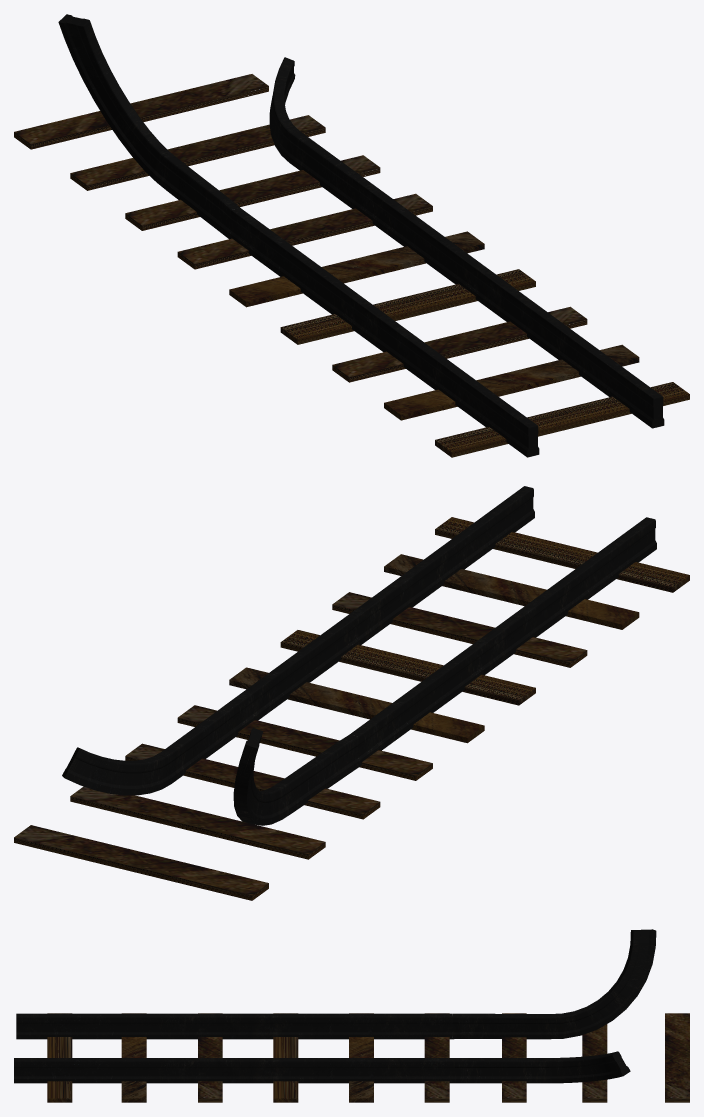
File: track broken.fbx
3 renders of one model, top to bottom at view 1: azimuth 30°, elevation 25°; view 2: azimuth 150°, elevation 25°; view 3: azimuth 270°, elevation 25°, orthographic. The views are drawn at different scales.
Visible parts, largest first — view 1: polySurface94; view 2: polySurface94; view 3: polySurface94.
Boxes of the visible parts, <box> form: polySurface94: <box>14,14,689,457</box>; polySurface94: <box>14,486,689,900</box>; polySurface94: <box>14,929,689,1102</box>.
Bounding box in the file's own units: 6.93 × 3.78 × 23.22.
2 materials, 2 textured.
